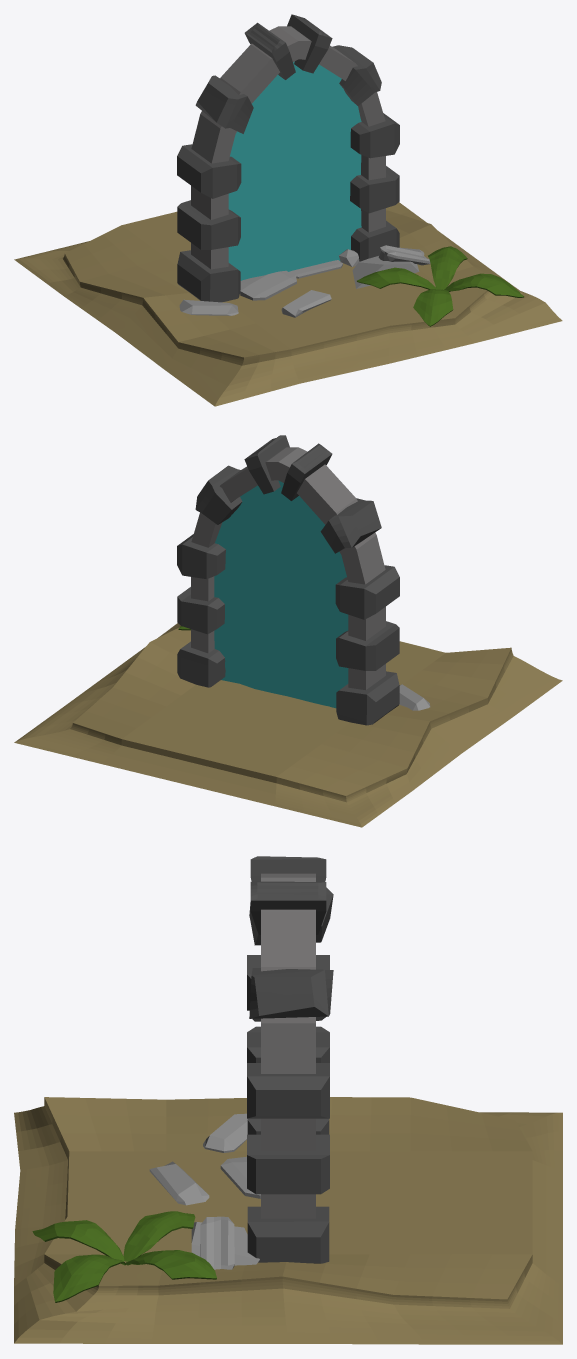
The model's file is portal.fbx.
3 views of the same model, one above another, from view 1: azimuth 30°, elevation 25°; view 2: azimuth 150°, elevation 25°; view 3: azimuth 270°, elevation 25° (orthographic). The views are drawn at different scales.
Parts seen in each view (by area): view 1: Plano, Plano.001, Cubo.001, Cubo, Plano.005, Cubo.003, Cubo.002, Cubo.007, Cubo.005, Cubo.006, Cubo.004; view 2: Plano, Plano.001, Cubo.001, Cubo, Cubo.007; view 3: Plano, Cubo.001, Cubo, Plano.005, Cubo.006, Cubo.005, Cubo.007, Cubo.002, Cubo.003.
Boxes of the visible parts, <box> form: Plano: <box>14,202,562,406</box>; Plano.001: <box>228,61,361,280</box>; Cubo.001: <box>177,14,399,302</box>; Cubo: <box>191,26,385,269</box>; Plano.005: <box>357,246,524,326</box>; Cubo.003: <box>240,270,296,300</box>; Cubo.002: <box>352,247,419,288</box>; Cubo.007: <box>179,299,238,315</box>; Cubo.005: <box>281,290,331,317</box>; Cubo.006: <box>378,245,430,265</box>; Cubo.004: <box>289,260,342,278</box>; Plano: <box>14,623,562,827</box>; Plano.001: <box>214,480,348,708</box>; Cubo.001: <box>177,435,399,725</box>; Cubo: <box>191,447,385,690</box>; Cubo.007: <box>399,684,430,710</box>; Plano: <box>14,1097,562,1344</box>; Cubo.001: <box>247,856,333,1263</box>; Cubo: <box>261,873,315,1218</box>; Plano.005: <box>32,1211,216,1302</box>; Cubo.006: <box>200,1216,234,1269</box>; Cubo.005: <box>149,1161,209,1205</box>; Cubo.007: <box>203,1113,247,1152</box>; Cubo.002: <box>191,1222,259,1265</box>; Cubo.003: <box>220,1156,260,1198</box>.
Bounding box in the file's own units: 962 × 695 × 962.
